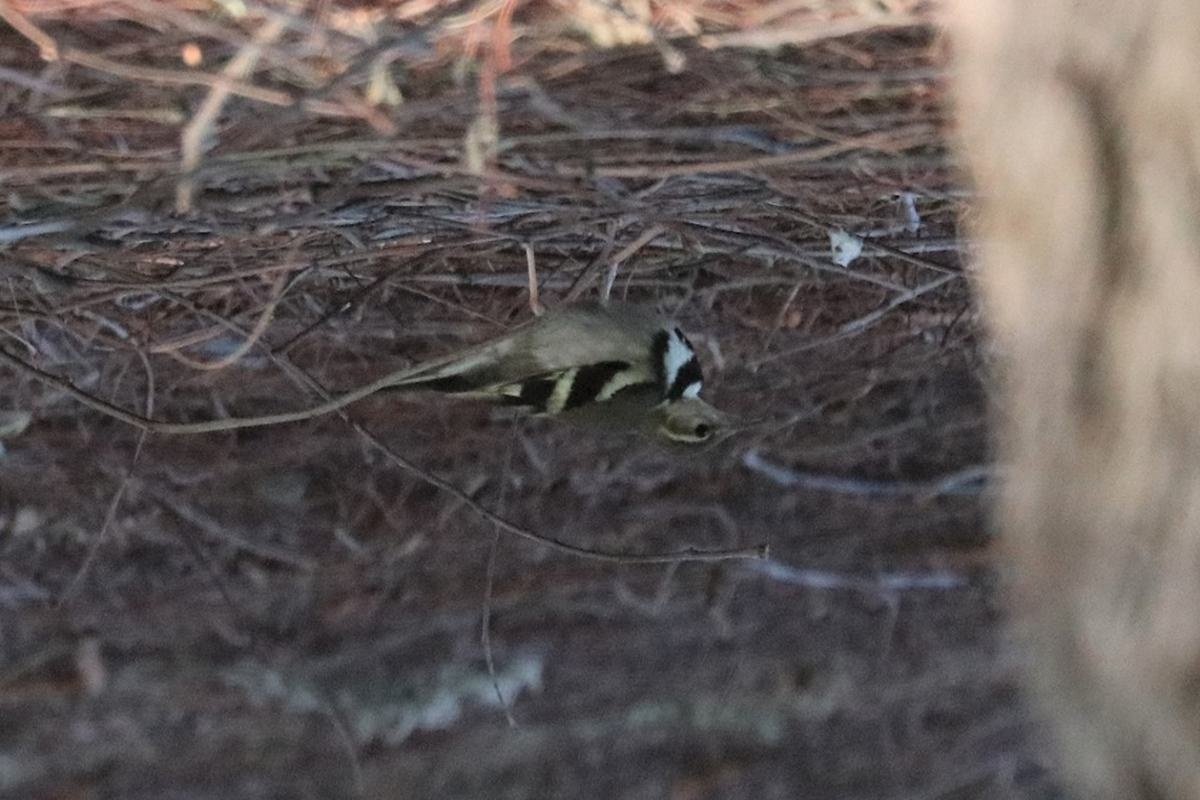wagtail: (475, 287, 775, 464)
